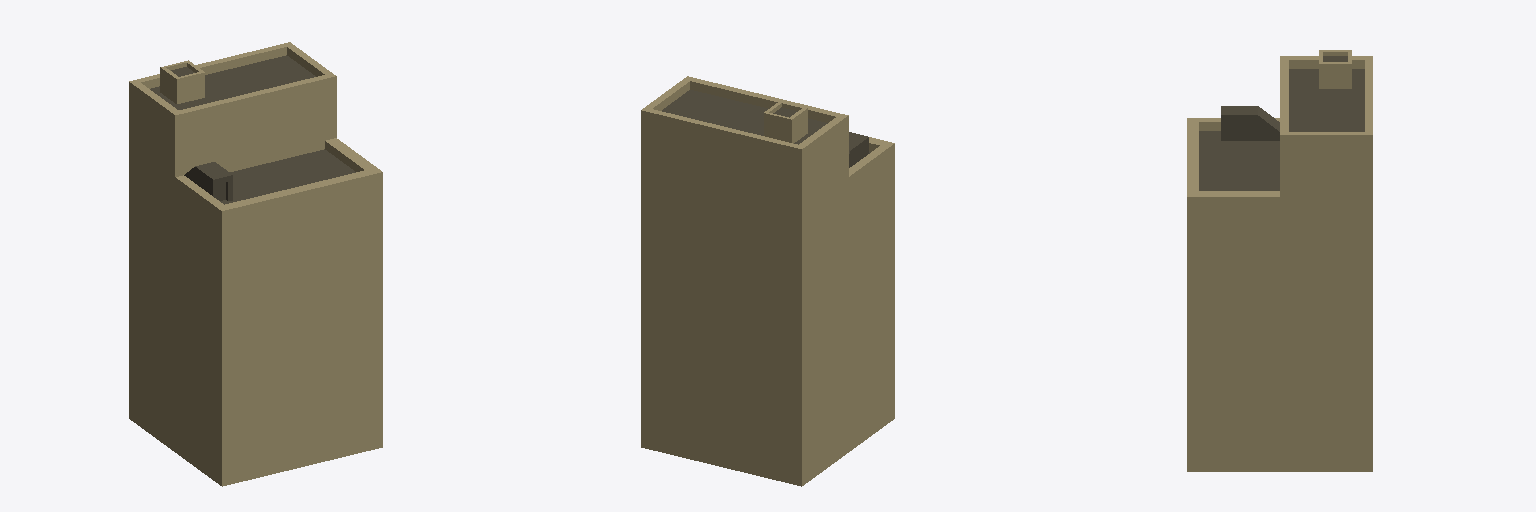
File: highrise_6.obj
3 renders of one model, left to right at view 1: azimuth 30°, elevation 25°; view 2: azimuth 150°, elevation 25°; view 3: azimuth 270°, elevation 25°, orthographic.
Visible parts, largest first — view 1: Mesh1 Model; view 2: Mesh1 Model; view 3: Mesh1 Model.
Part boxes in pixels (x1,y1,x2,y2): Mesh1 Model: (129,42,382,486); Mesh1 Model: (641,76,894,486); Mesh1 Model: (1187,50,1372,471).
Bounding box in the file's own units: 20 × 42 × 20.